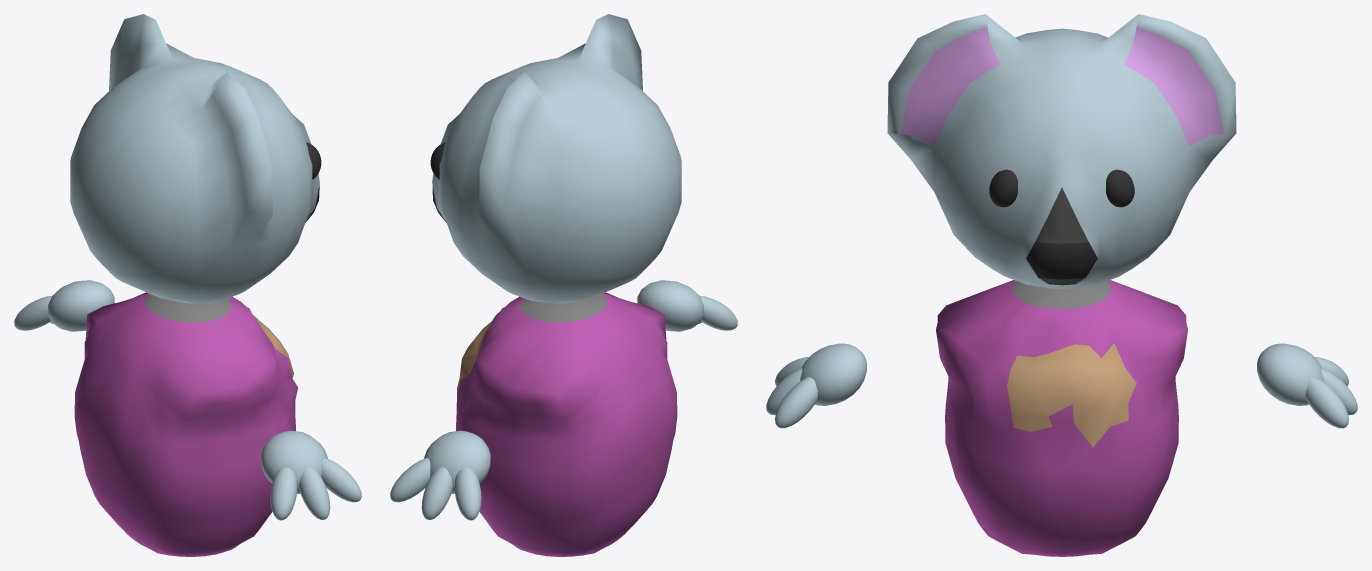
File: koala.fbx
3 renders of one model, left to right at view 1: azimuth 30°, elevation 25°; view 2: azimuth 150°, elevation 25°; view 3: azimuth 270°, elevation 25°, orthographic. The views are drawn at different scales.
Parts seen in each view (by area): view 1: koala, koala_hand_R, koala_hand_l; view 2: koala, koala_hand_l, koala_hand_R; view 3: koala, koala_hand_l, koala_hand_R.
Part boxes in pixels (box(x1,y1,x2,y2)): koala: box(70, 14, 321, 556); koala_hand_R: box(261, 430, 361, 520); koala_hand_l: box(14, 280, 114, 331); koala: box(430, 14, 681, 556); koala_hand_l: box(390, 430, 490, 520); koala_hand_R: box(637, 280, 737, 331); koala: box(887, 14, 1236, 556); koala_hand_l: box(1257, 343, 1357, 428); koala_hand_R: box(766, 343, 866, 428).
Size of the model in its own units: 249 by 514 by 524.
